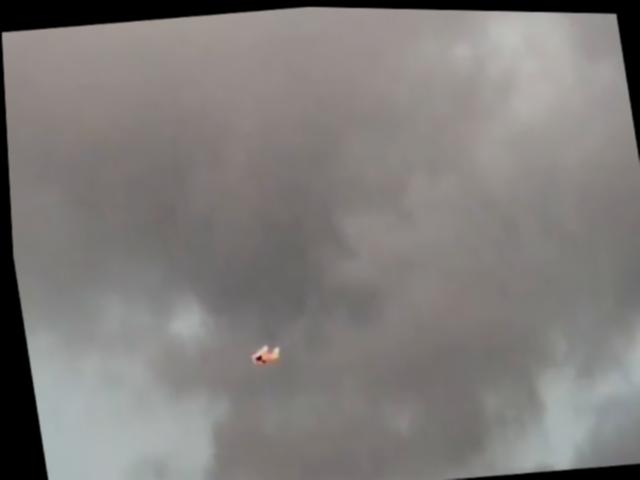plane: (245, 343, 281, 371)
